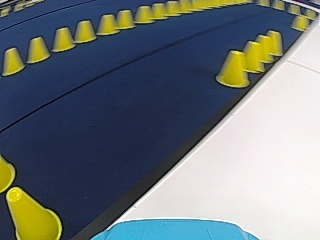cone: (5, 185, 62, 239), (215, 49, 249, 89), (240, 40, 266, 74), (3, 47, 25, 76), (27, 36, 49, 64), (252, 35, 274, 63), (0, 155, 16, 193), (53, 28, 75, 52), (264, 31, 283, 56), (77, 20, 96, 44), (97, 15, 118, 35), (117, 10, 135, 30), (136, 6, 153, 24), (152, 4, 168, 20), (167, 1, 180, 16)
